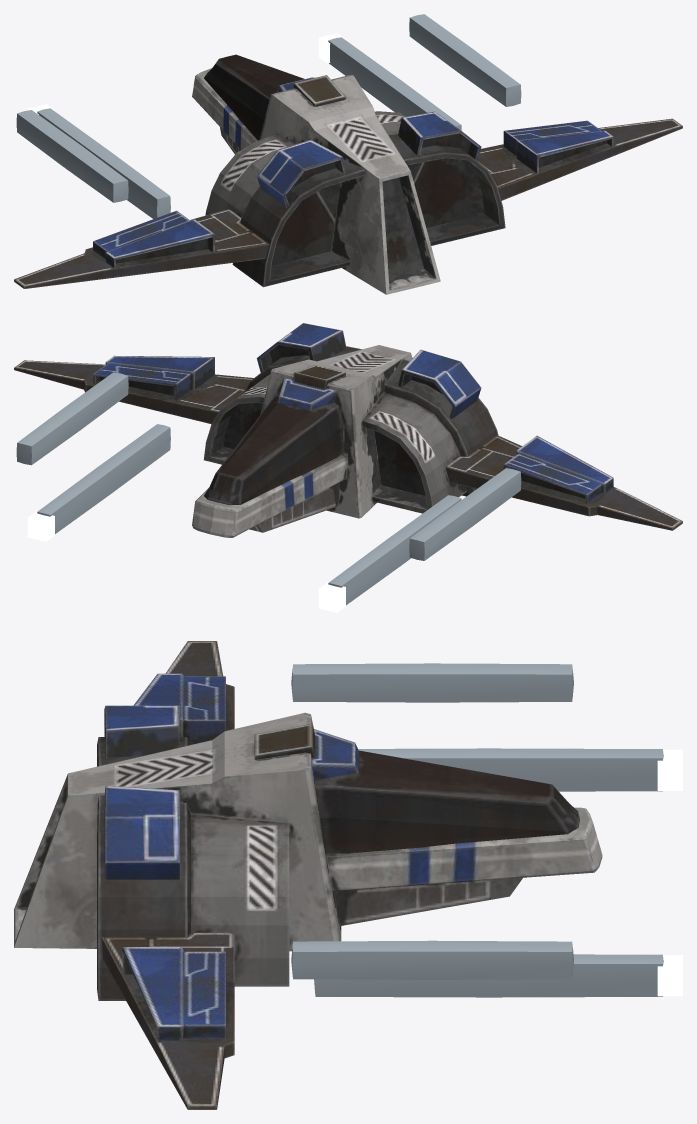
File: npc_squad.glb
3 views of the same model, one above another, from view 1: azimuth 30°, elevation 25°; view 2: azimuth 150°, elevation 25°; view 3: azimuth 270°, elevation 25° (orthographic). The views are drawn at different scales.
Parts seen in each view (by area): view 1: npc_squad; view 2: npc_squad; view 3: npc_squad.
Part boxes in pixels (x1,y1,x2,y2): npc_squad: [14, 14, 682, 294]; npc_squad: [14, 323, 682, 612]; npc_squad: [14, 641, 682, 1109].
Bounding box in the file's own units: 1.95 × 0.3771 × 1.18.
Materials: 3 (1 with a texture image).
